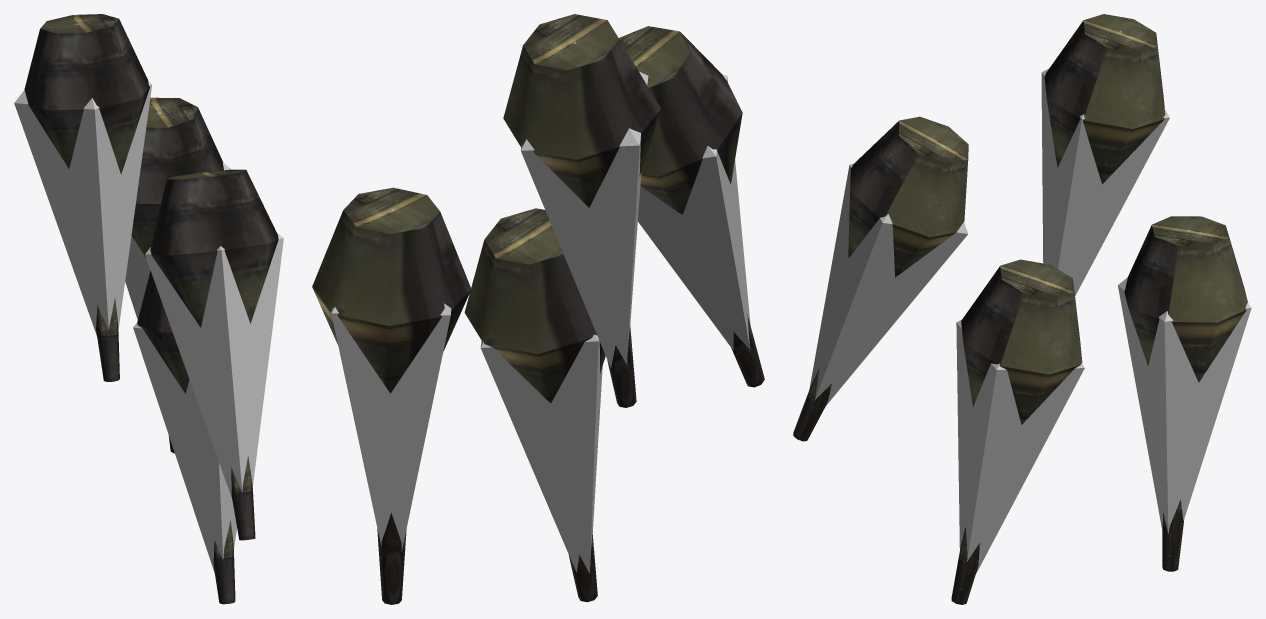
3 views of the same model, side by side, from view 1: azimuth 30°, elevation 25°; view 2: azimuth 150°, elevation 25°; view 3: azimuth 270°, elevation 25° (orthographic). The views are drawn at different scales.
Visible parts, largest first — view 1: surface_000, surface_001; view 2: surface_000, surface_001; view 3: surface_000, surface_001.
Part boxes in pixels (x1,y1,x2,y2): surface_000: [24, 14, 278, 604]; surface_001: [14, 23, 283, 572]; surface_000: [312, 14, 764, 604]; surface_001: [331, 42, 750, 573]; surface_000: [793, 14, 1247, 604]; surface_001: [809, 31, 1251, 574].
Bounding box in the file's own units: 24 × 53.29 × 40.58.
